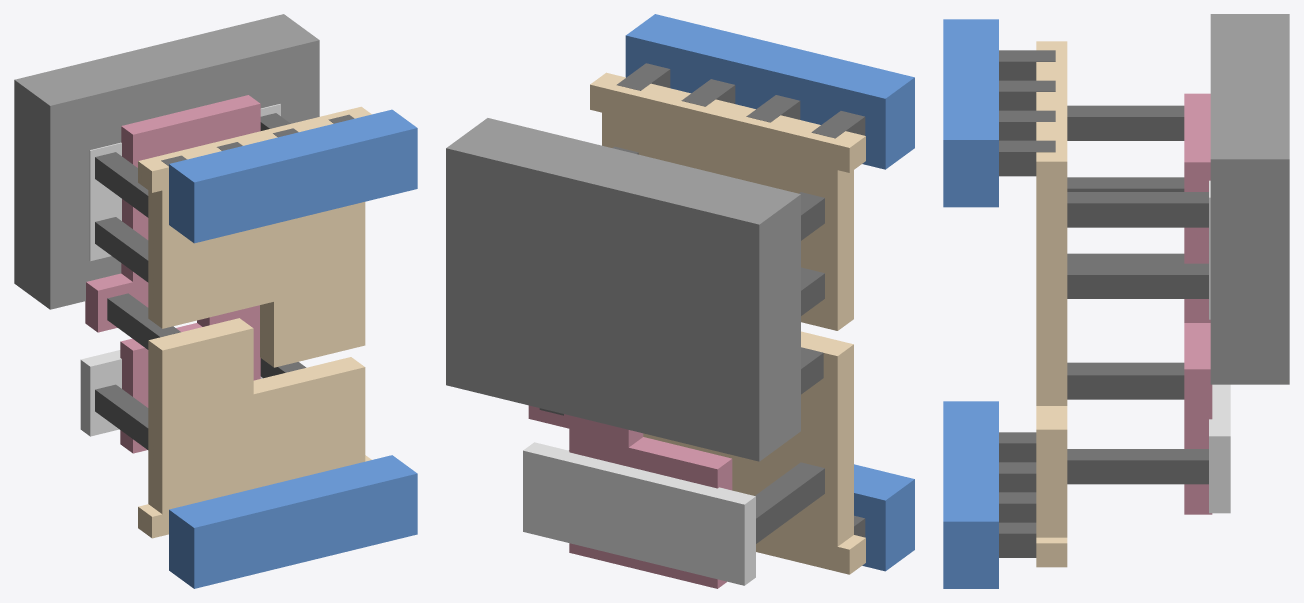
The model's file is sky130_fd_sc_hd__decap_4.gds.gltf.
3 views of the same model, side by side, from view 1: azimuth 30°, elevation 25°; view 2: azimuth 150°, elevation 25°; view 3: azimuth 270°, elevation 25° (orthographic). The views are drawn at different scales.
Visible parts, largest first — view 1: sky130_fd_sc_hd__decap_4_li1, sky130_fd_sc_hd__decap_4_met1, sky130_fd_sc_hd__decap_4_nwell, sky130_fd_sc_hd__decap_4_poly, sky130_fd_sc_hd__decap_4_licon, sky130_fd_sc_hd__decap_4_diff, sky130_fd_sc_hd__decap_4_mcon; view 2: sky130_fd_sc_hd__decap_4_nwell, sky130_fd_sc_hd__decap_4_li1, sky130_fd_sc_hd__decap_4_met1, sky130_fd_sc_hd__decap_4_diff, sky130_fd_sc_hd__decap_4_poly, sky130_fd_sc_hd__decap_4_licon, sky130_fd_sc_hd__decap_4_mcon; view 3: sky130_fd_sc_hd__decap_4_nwell, sky130_fd_sc_hd__decap_4_licon, sky130_fd_sc_hd__decap_4_met1, sky130_fd_sc_hd__decap_4_li1, sky130_fd_sc_hd__decap_4_mcon, sky130_fd_sc_hd__decap_4_poly, sky130_fd_sc_hd__decap_4_diff.
Part boxes in pixels (x1,y1,x2,y2): sky130_fd_sc_hd__decap_4_li1: (138, 106, 371, 538); sky130_fd_sc_hd__decap_4_met1: (169, 109, 417, 588); sky130_fd_sc_hd__decap_4_nwell: (14, 14, 319, 309); sky130_fd_sc_hd__decap_4_poly: (85, 95, 260, 453); sky130_fd_sc_hd__decap_4_licon: (95, 113, 306, 449); sky130_fd_sc_hd__decap_4_diff: (80, 104, 280, 436); sky130_fd_sc_hd__decap_4_mcon: (161, 114, 354, 166); sky130_fd_sc_hd__decap_4_nwell: (446, 118, 800, 461); sky130_fd_sc_hd__decap_4_li1: (590, 72, 865, 574); sky130_fd_sc_hd__decap_4_met1: (625, 14, 914, 571); sky130_fd_sc_hd__decap_4_diff: (523, 442, 755, 585); sky130_fd_sc_hd__decap_4_poly: (528, 405, 732, 588); sky130_fd_sc_hd__decap_4_licon: (539, 146, 824, 543); sky130_fd_sc_hd__decap_4_mcon: (617, 63, 865, 537); sky130_fd_sc_hd__decap_4_nwell: (1210, 14, 1289, 384); sky130_fd_sc_hd__decap_4_licon: (1067, 105, 1208, 484); sky130_fd_sc_hd__decap_4_met1: (943, 19, 998, 588); sky130_fd_sc_hd__decap_4_li1: (1036, 41, 1067, 567); sky130_fd_sc_hd__decap_4_mcon: (999, 50, 1055, 557); sky130_fd_sc_hd__decap_4_poly: (1184, 93, 1212, 514); sky130_fd_sc_hd__decap_4_diff: (1209, 180, 1230, 513).
Size of the model in its own units: 2.22 by 3.2 by 2.24.
